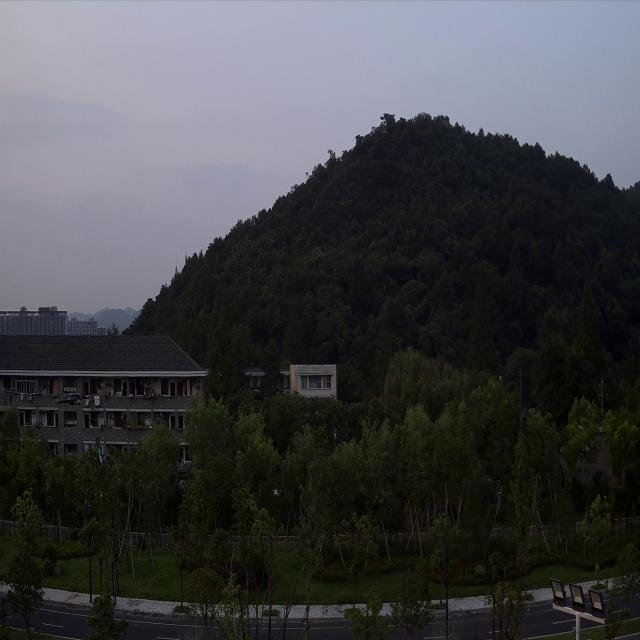UAV: (53, 390, 90, 407)
